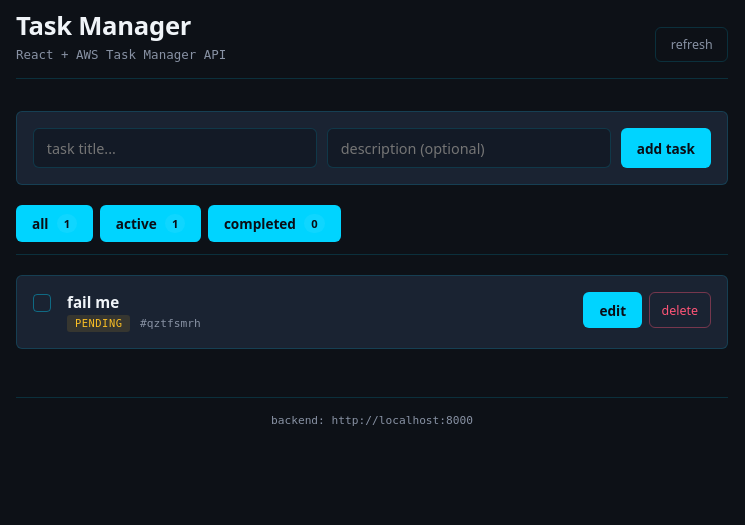
App: task completion › shows an error if toggling fails
Step 1. Click the checkbox named "task: fail me" → (42,302), box x1=33 y1=292 x2=51 y2=312
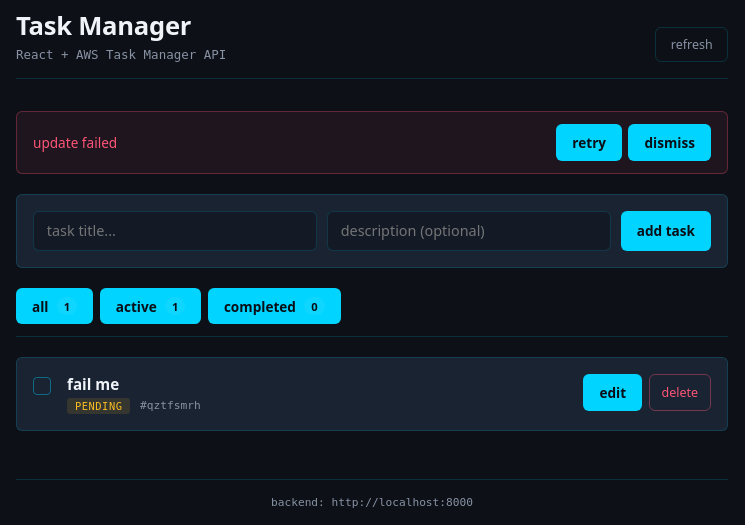
expect the text "update failed" is shown: met, box x1=33 y1=133 x2=117 y2=152
